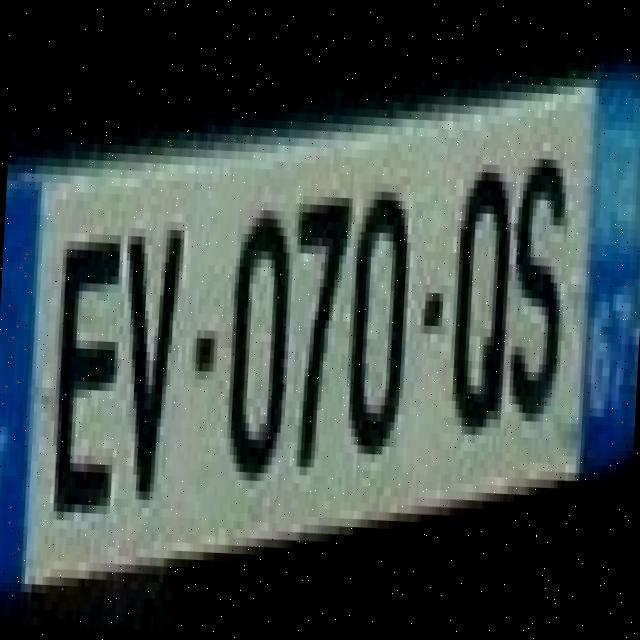Autre: (0, 78, 604, 593)
